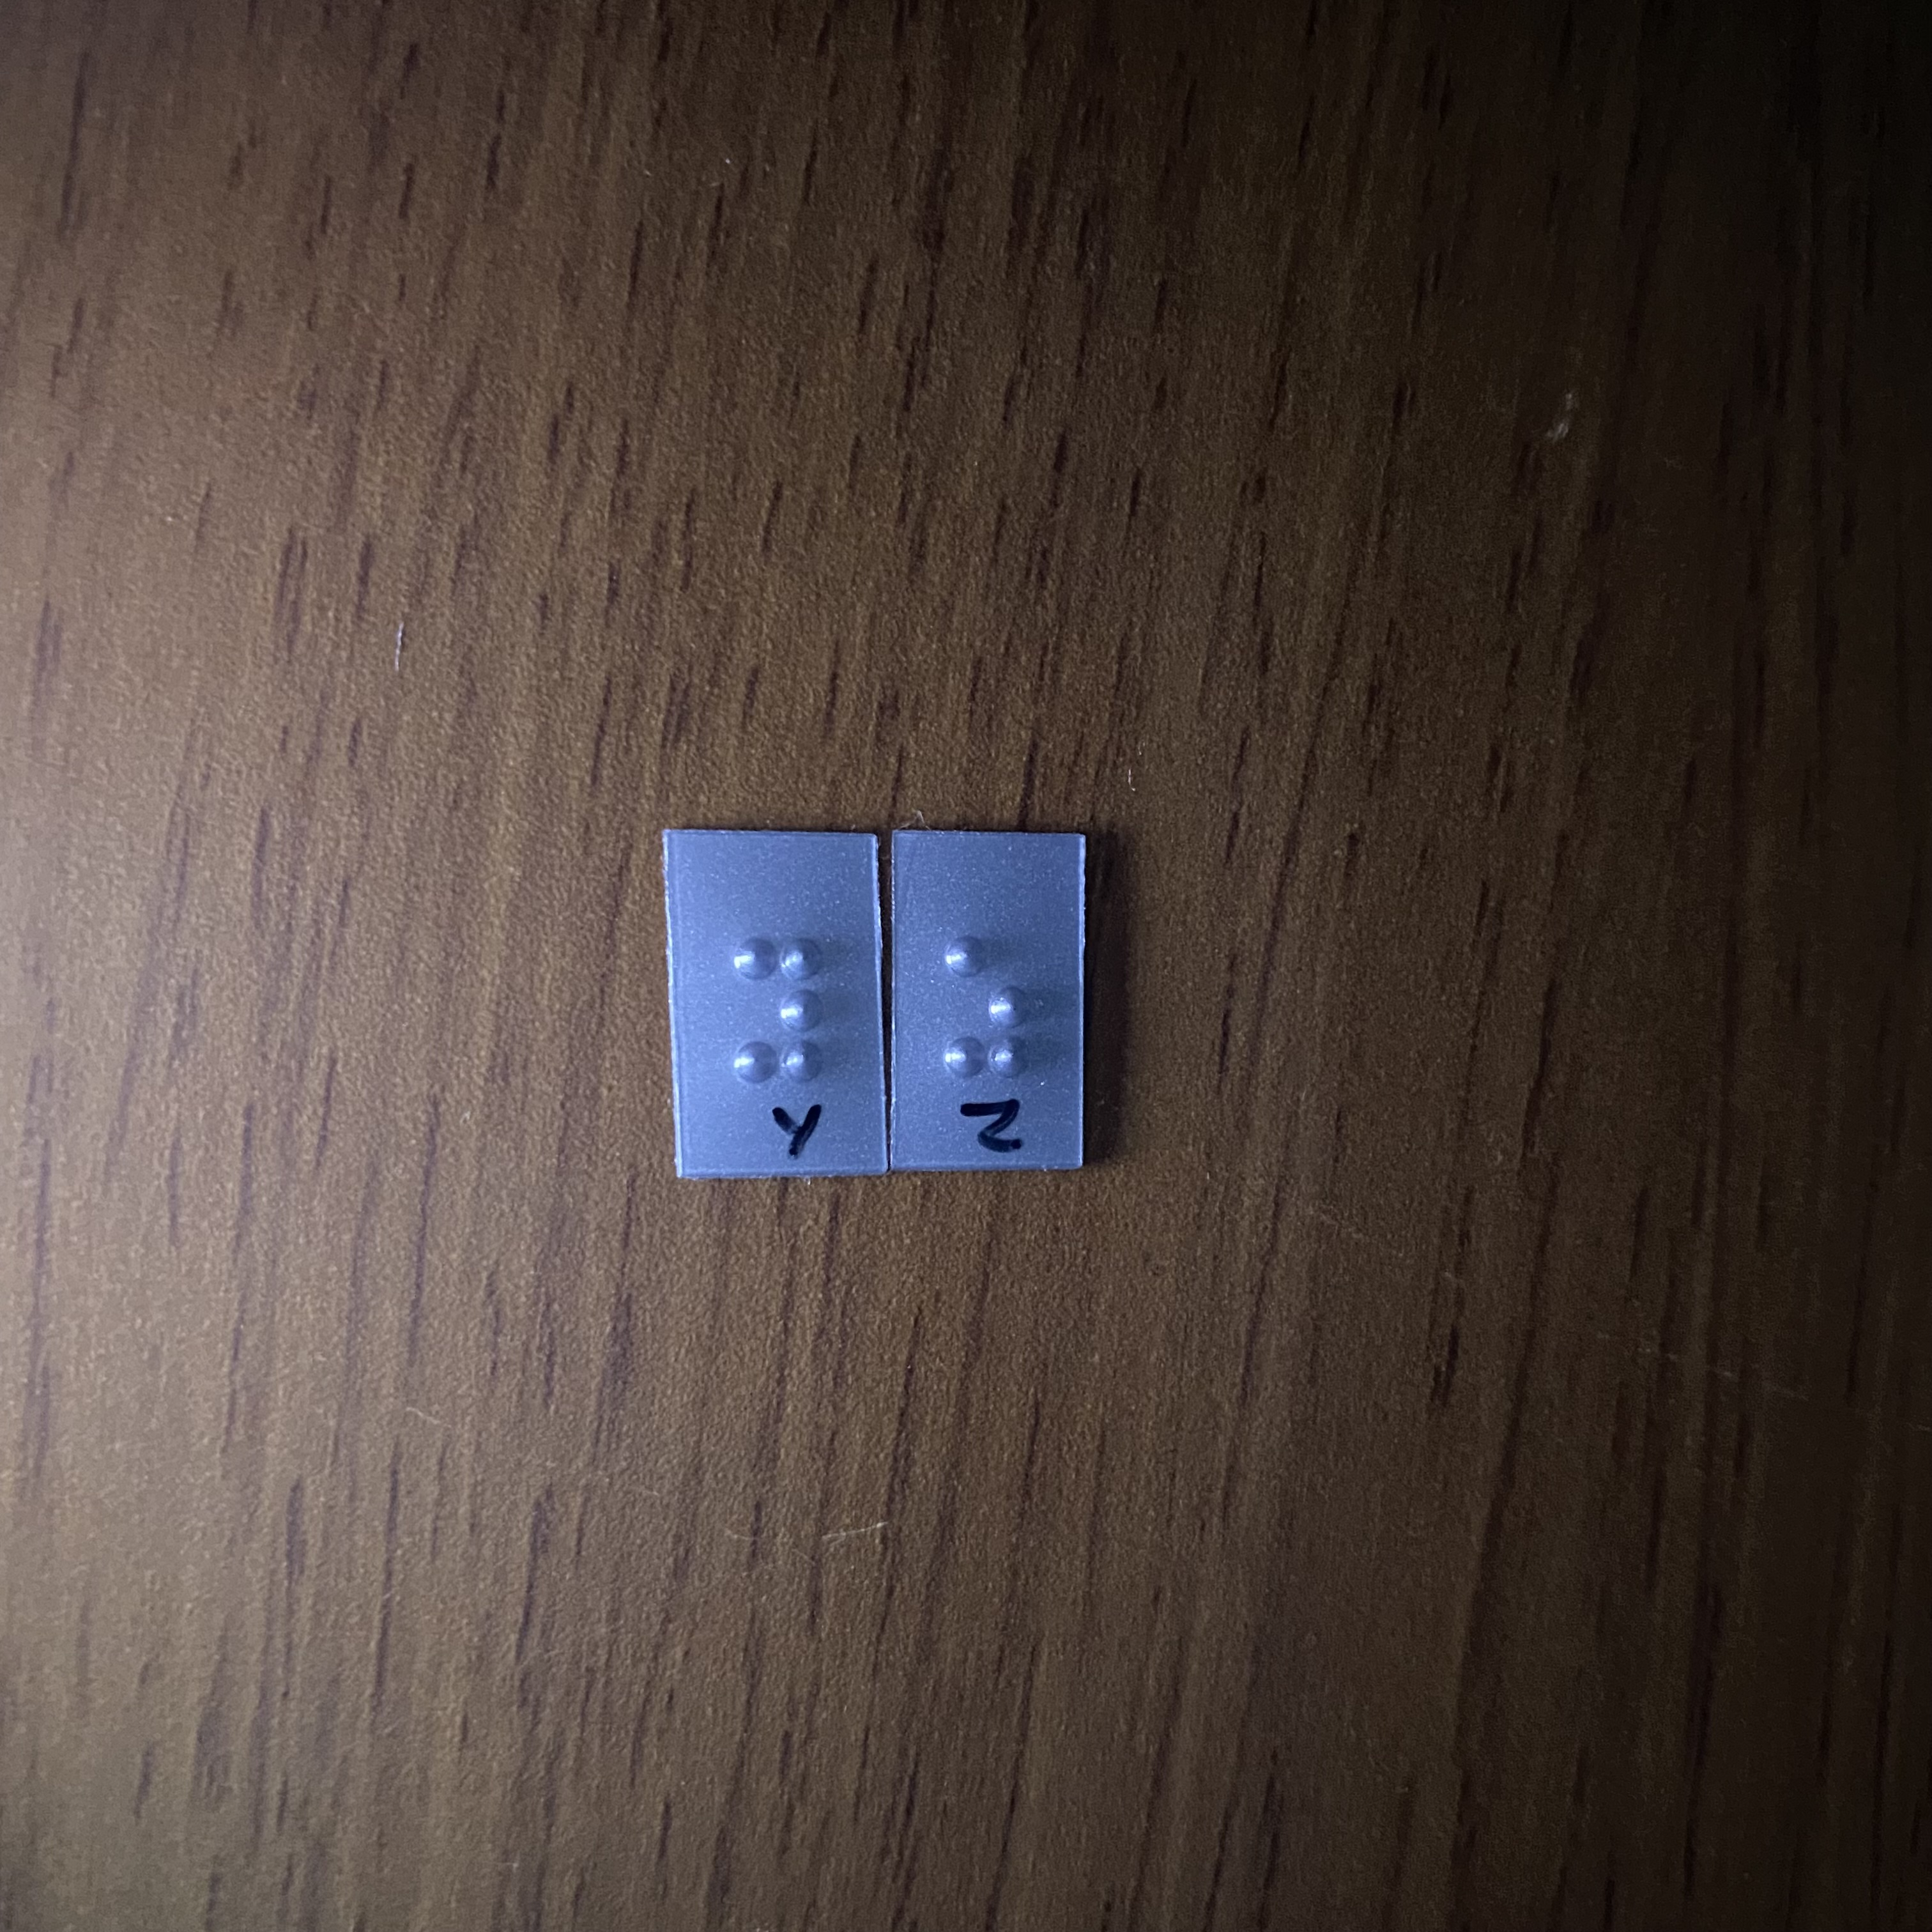y: (723, 916, 864, 1088)
z: (926, 921, 1058, 1101)
